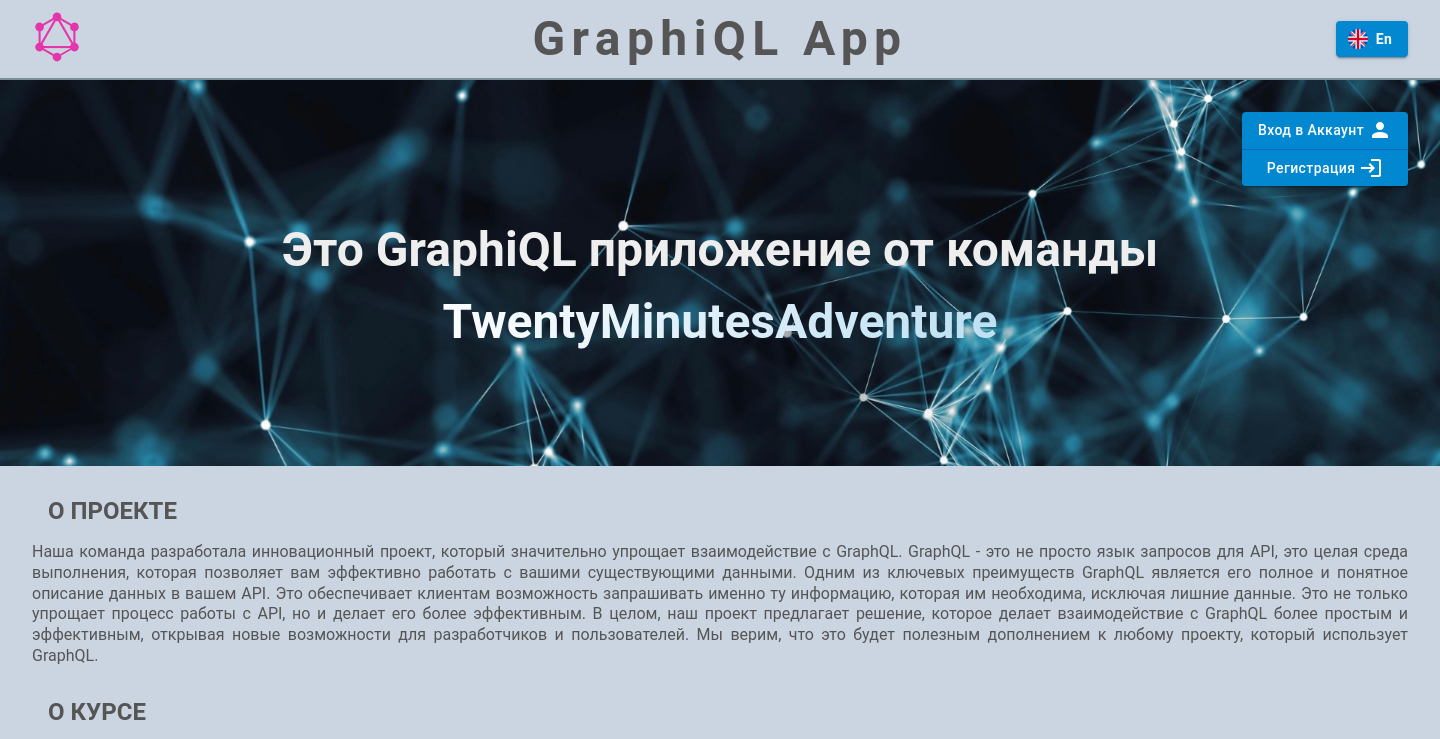
<Welcome> › should navigate to signup page
Click the button with test id "register". click: (1325,168)
box: [1242,150,1408,186]
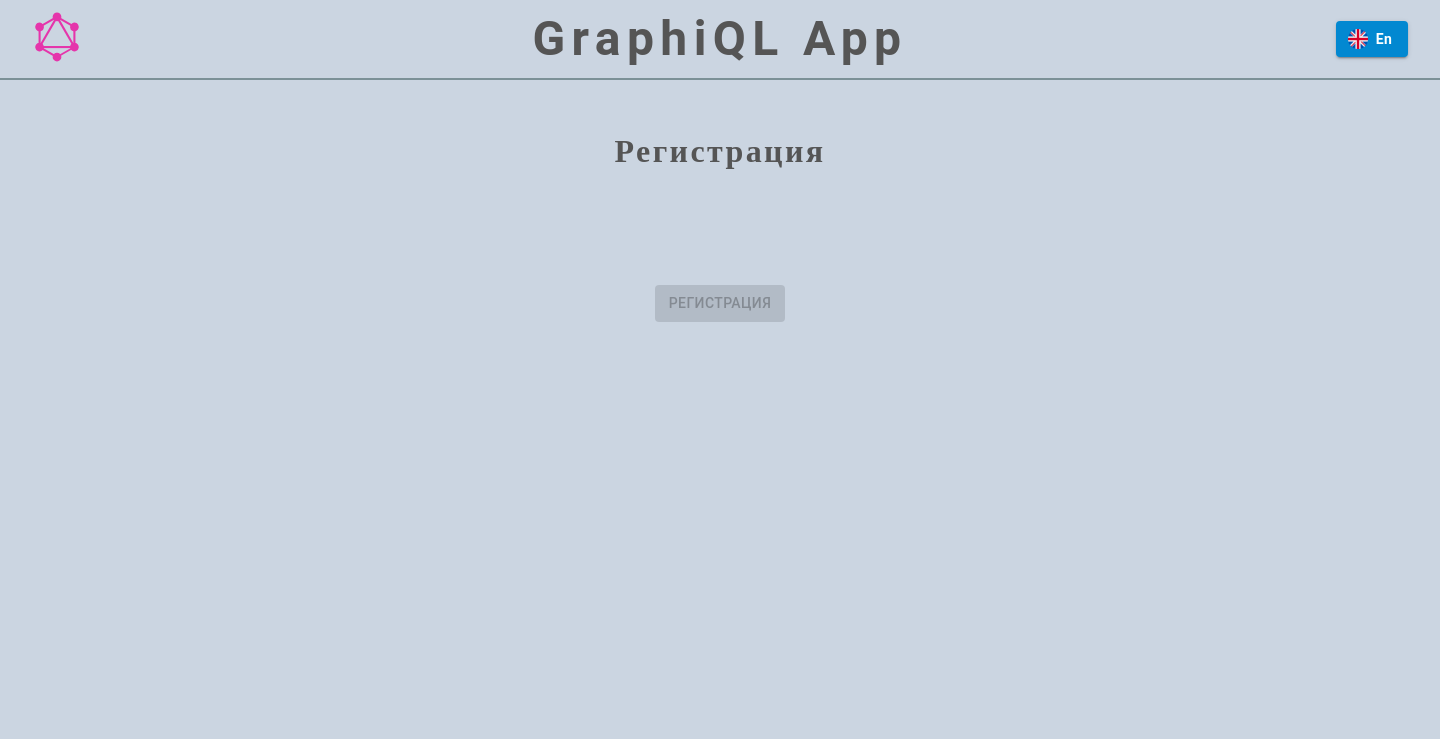
Expected: the heading "Регистрация" is shown, [614,133,826,169]
